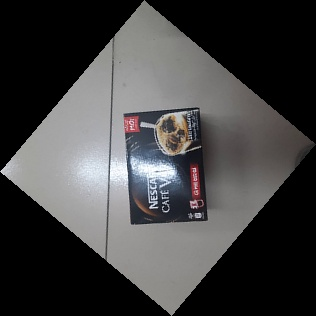CF Viet: (121, 108, 209, 225)
